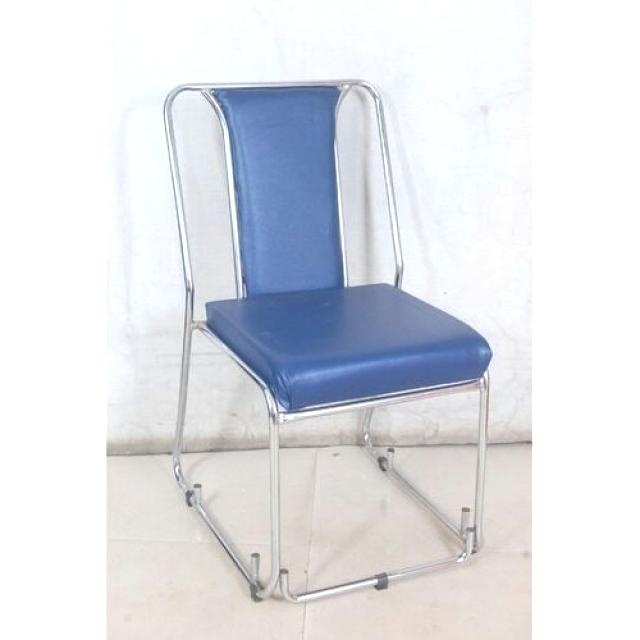Chair: (161, 79, 494, 610)
